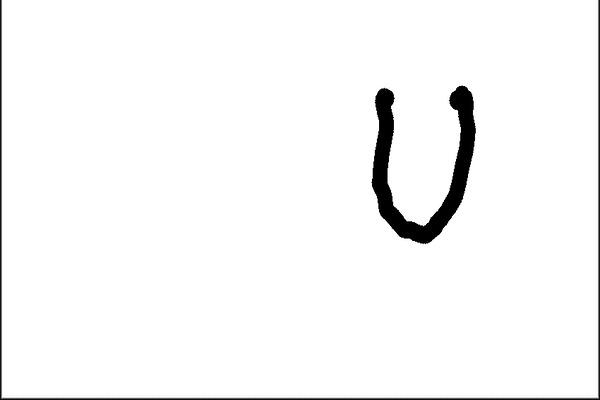U: (363, 75, 490, 242)
